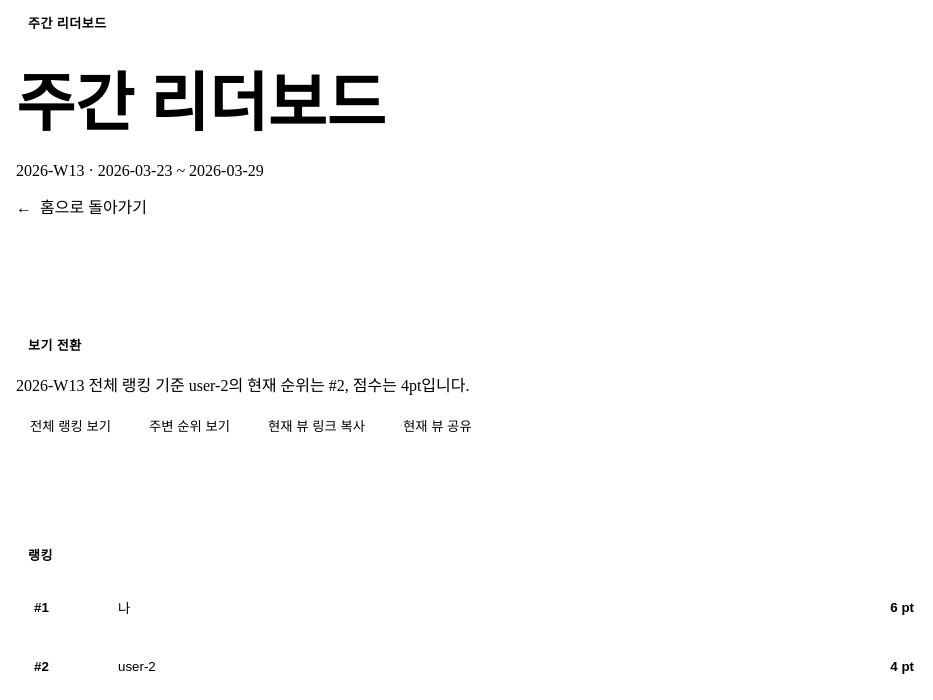
Scenario: leaderboard ui › toggles between full ranking and nearby ranking views
expect the text "랭킹" is shown: met, box [28,548,53,563]
Click the button "주변 순위 보기". click: (190, 425)
box: [135,408,244,443]
(page scrolled)
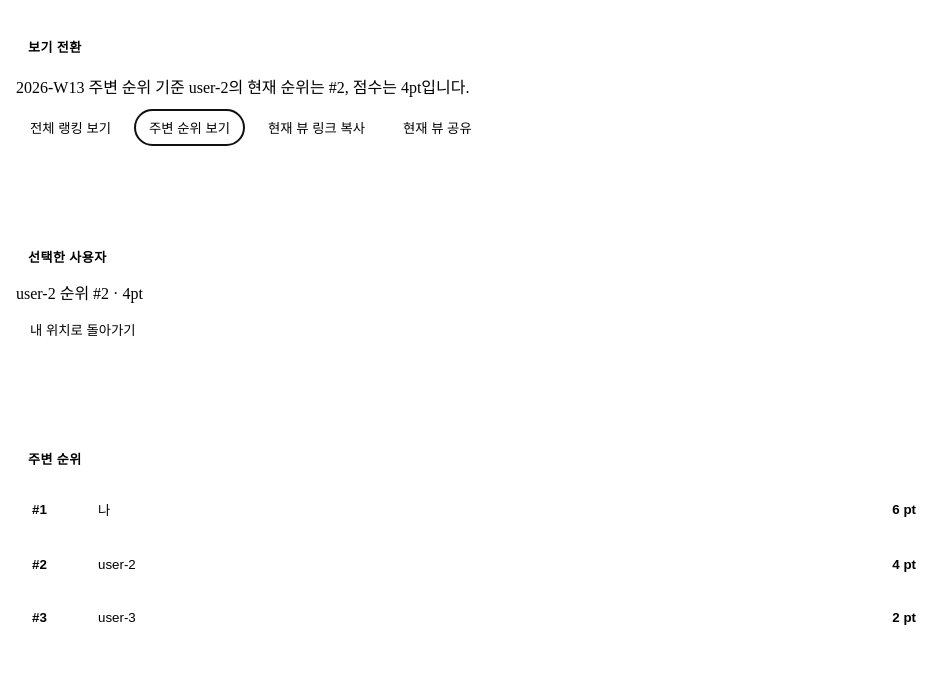
expect the text "주변 순위" is shown: met, box [28,452,82,467]
